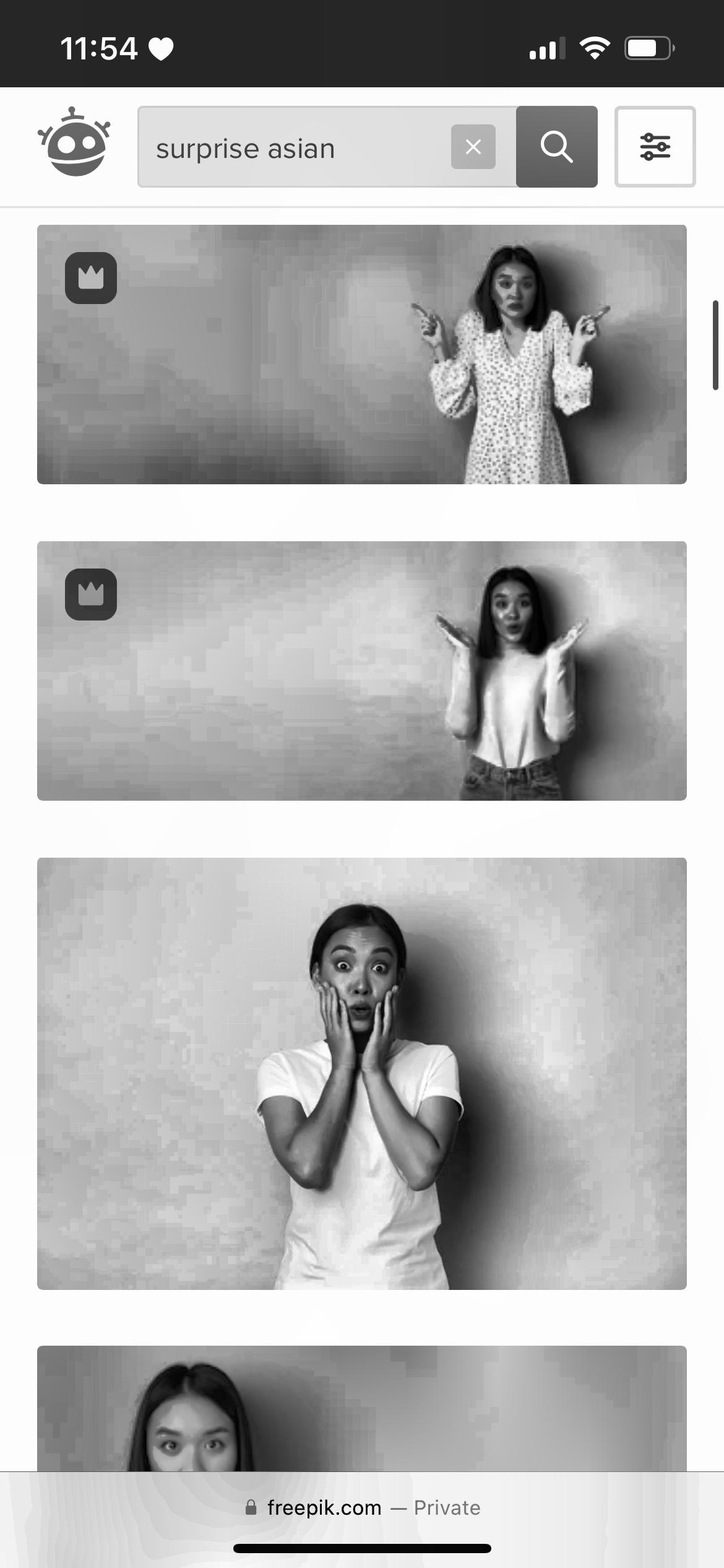surprised: (491, 568, 540, 660)
